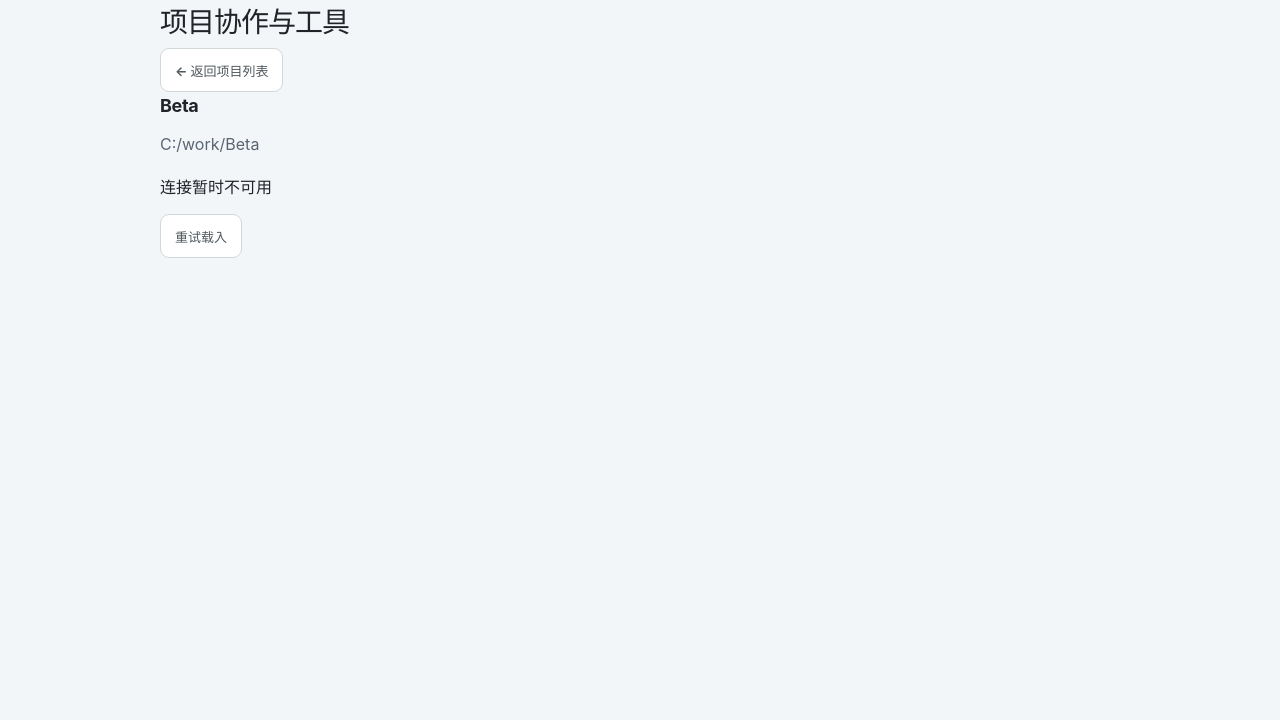
Test: Project collaboration tools › retains the folder and supports retry and back navigation
Later steps or results of the test are not shown.
Expected: the message shows "连接暂时不可用", [160,177,272,197]
Expected: the text "C:/work/Beta" is shown, [160,134,259,154]
Click the button "重试载入" at x=201, y=236, box [160,214,242,258]
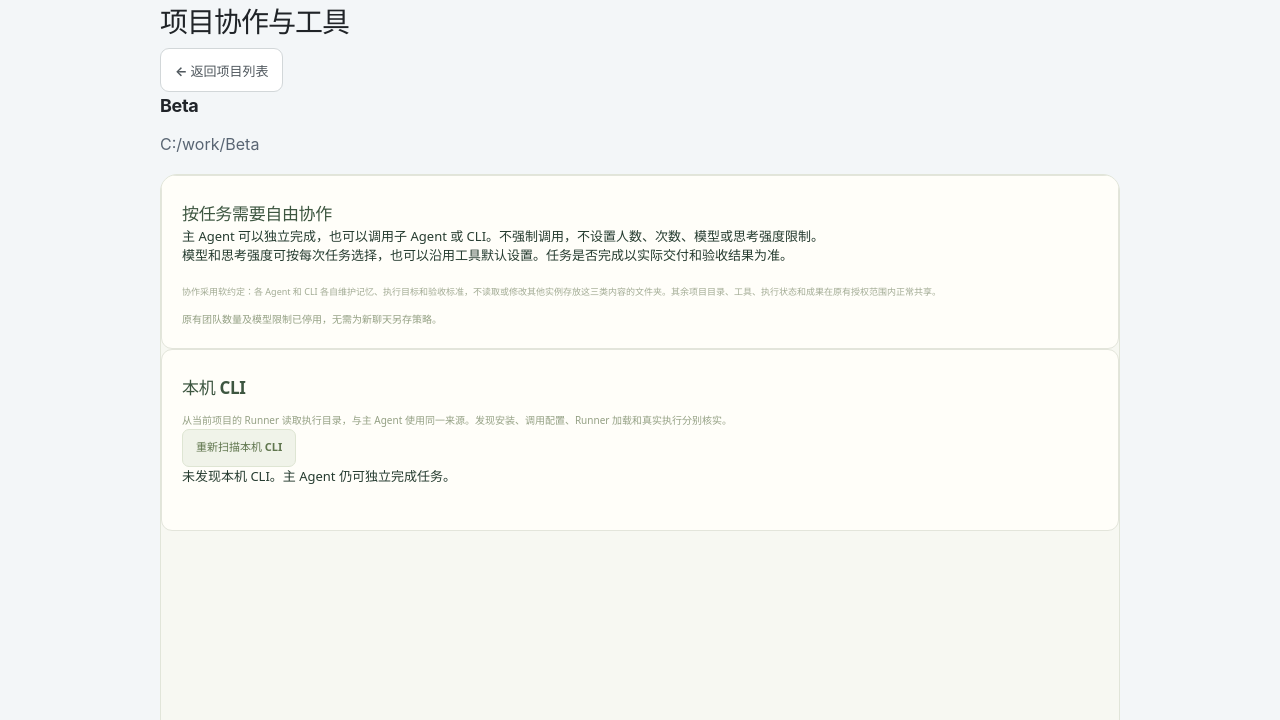
Expected: the heading "按任务需要自由协作" is shown, [182,202,332,225]
